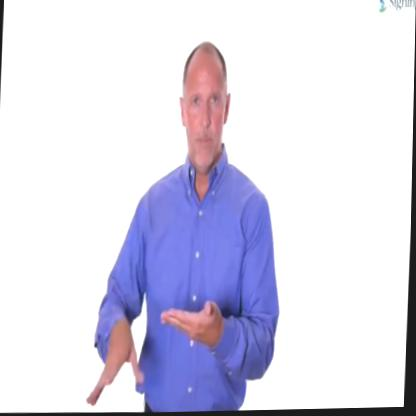Expensive: (88, 299, 224, 414)
